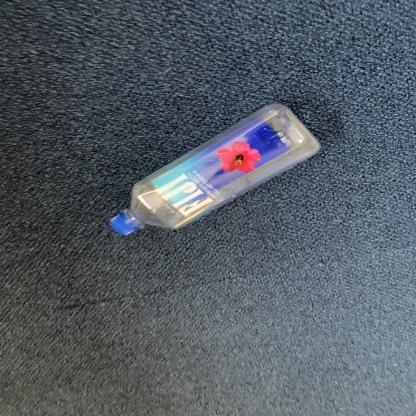trash: (105, 104, 322, 240)
